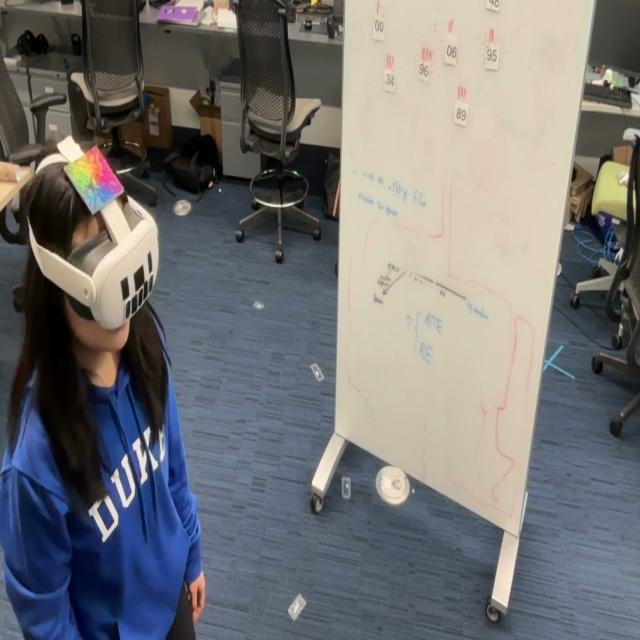Headset: (27, 164, 160, 330)
Marker: (62, 142, 125, 217)
